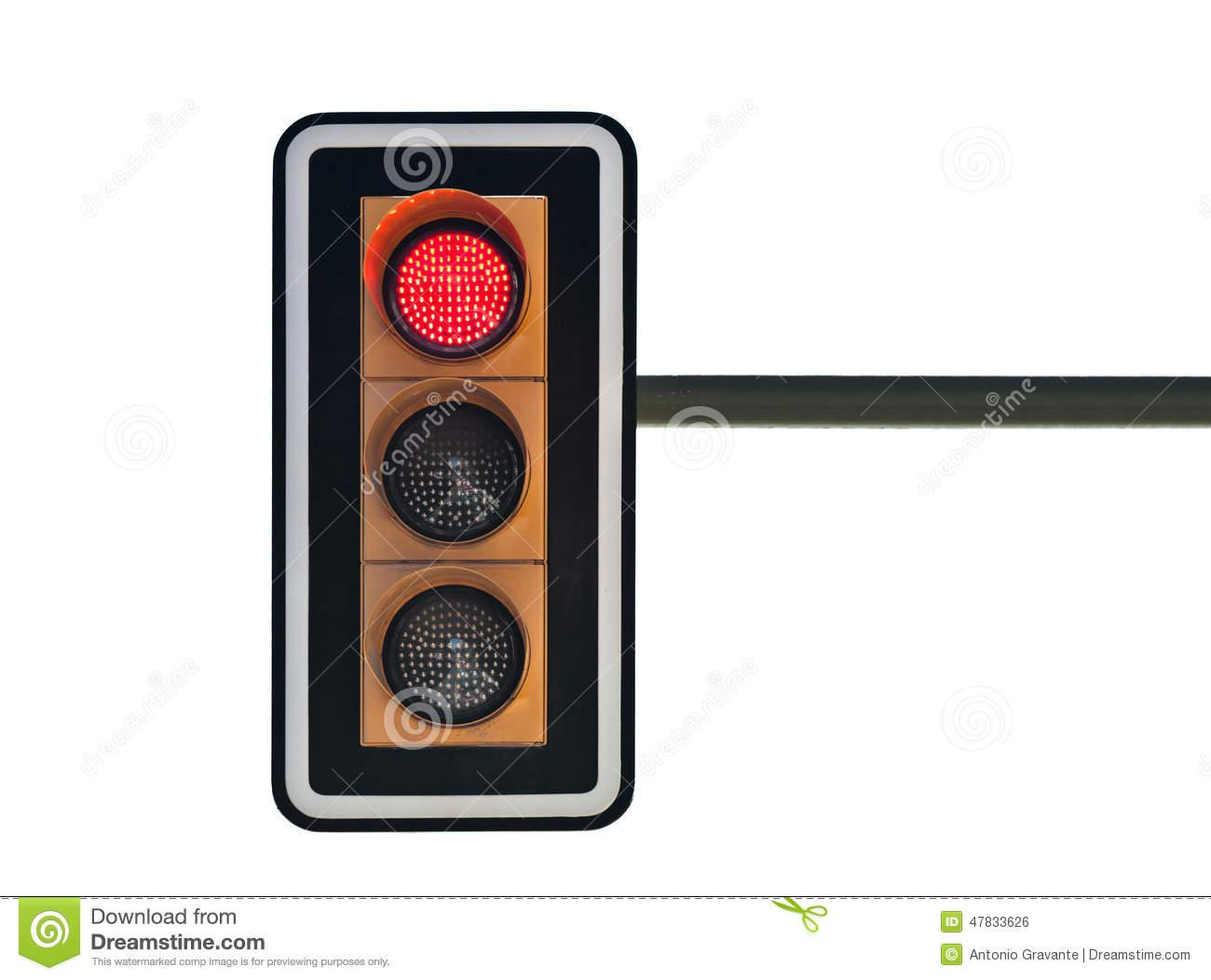red: (265, 100, 638, 827)
